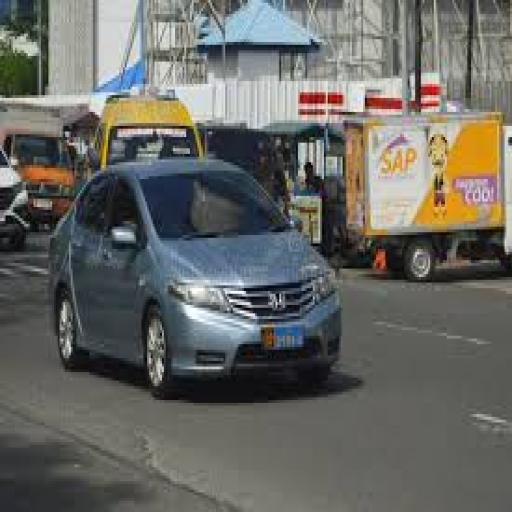License: (256, 322, 311, 354)
